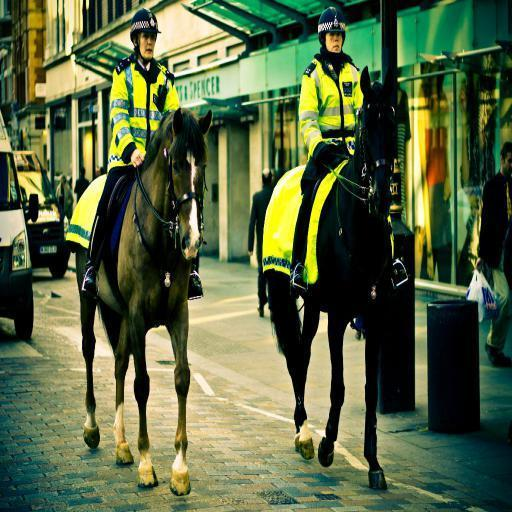horse: (263, 64, 394, 488), (73, 104, 213, 496)
